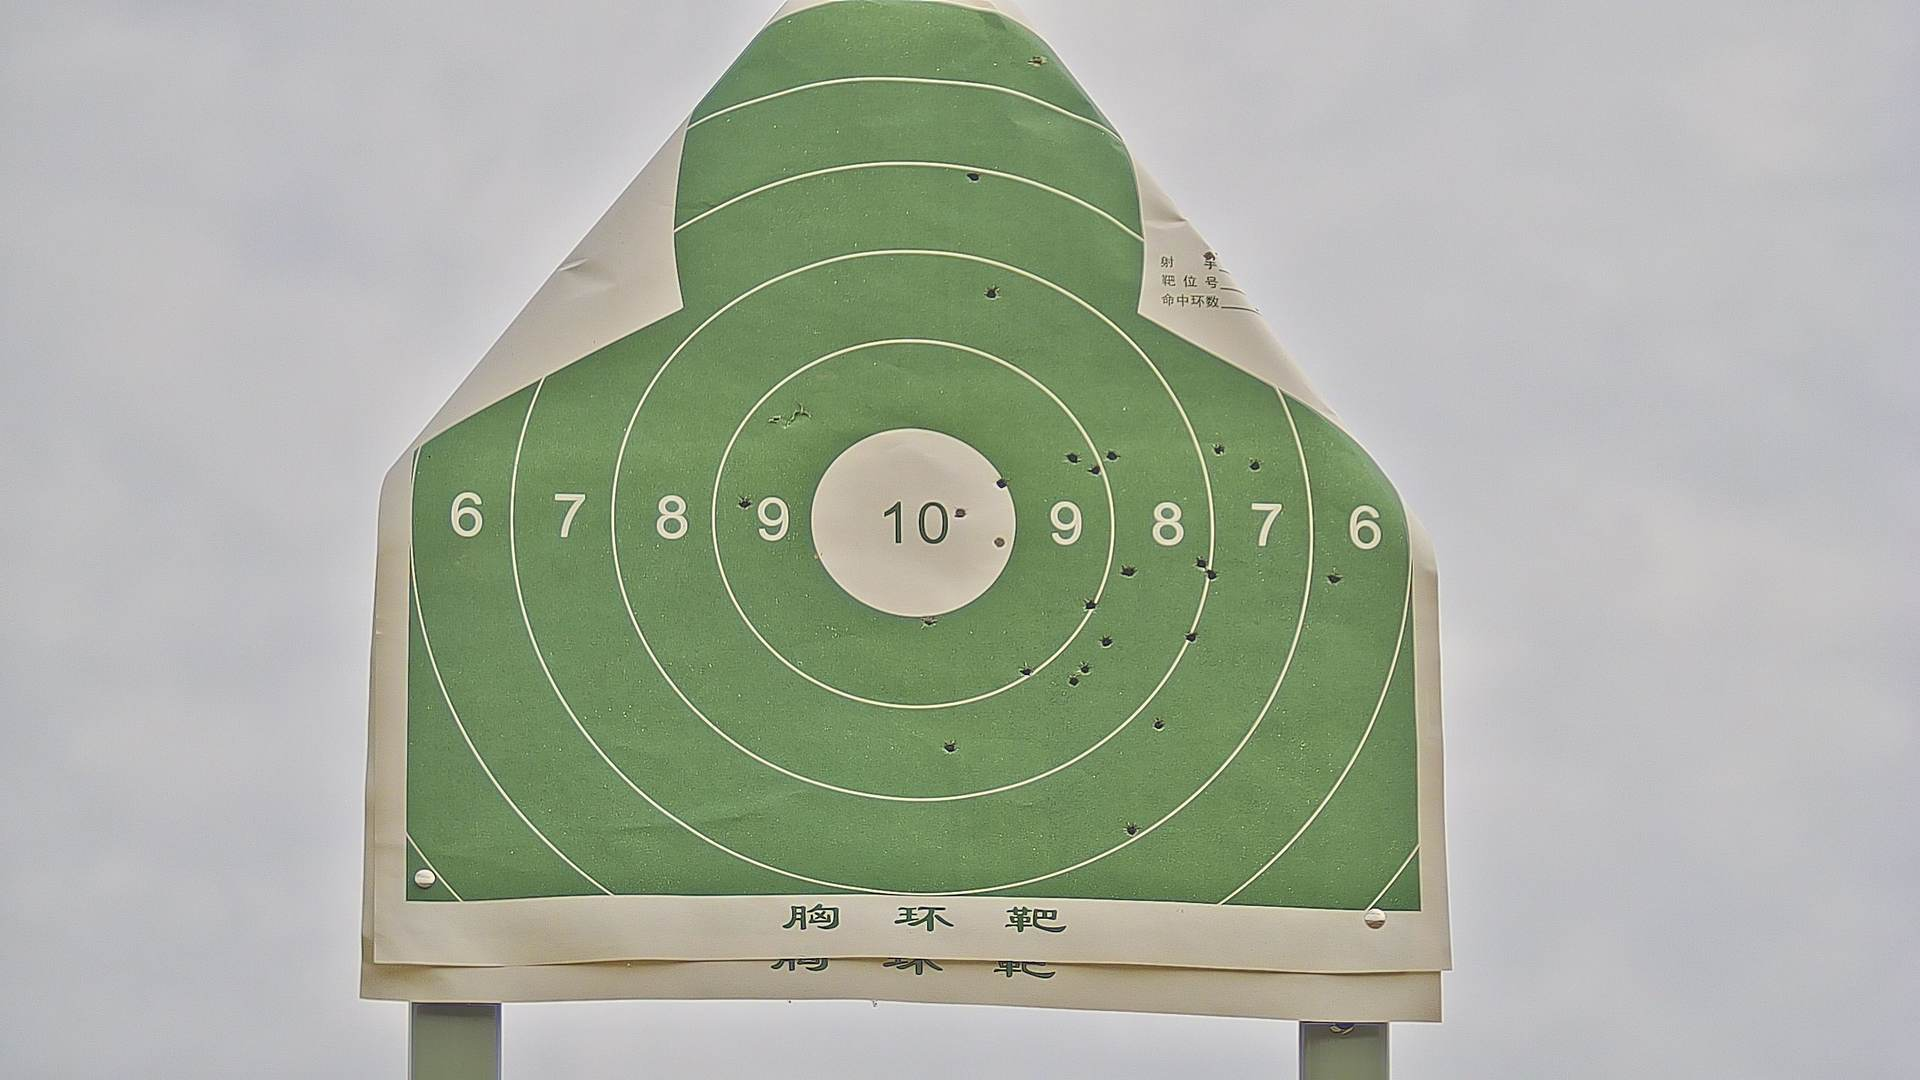hole: (1183, 624, 1207, 647), (1095, 630, 1120, 651), (938, 735, 960, 757), (1200, 564, 1222, 584), (1321, 568, 1346, 585), (732, 491, 752, 512), (1079, 593, 1098, 615), (965, 169, 985, 189), (920, 612, 940, 632), (1189, 551, 1211, 568), (1121, 815, 1138, 835), (1149, 712, 1164, 733), (993, 473, 1011, 491), (1076, 658, 1093, 676), (982, 285, 1002, 301), (1207, 440, 1226, 456), (1249, 456, 1265, 476), (1121, 563, 1138, 580), (1063, 448, 1079, 467), (1104, 450, 1124, 464), (951, 502, 967, 520), (990, 534, 1005, 551), (1018, 661, 1034, 675), (1027, 51, 1040, 69), (1067, 670, 1077, 691), (1089, 463, 1100, 480)
kernel: (909, 520, 913, 526)
target: (407, 3, 1423, 913)
ten: (810, 427, 1019, 616)
